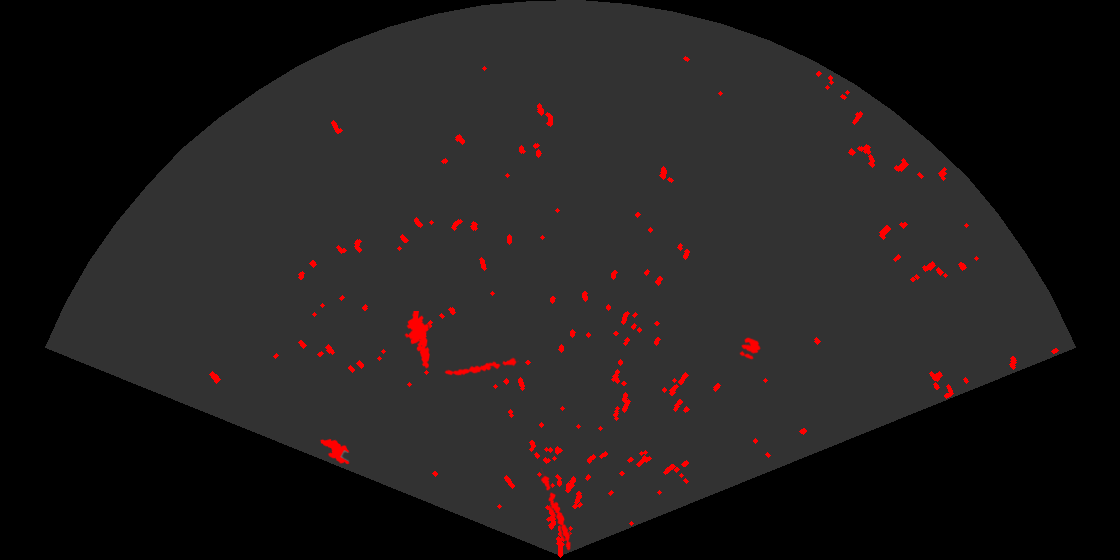AUV: (318, 437, 351, 466)
ball: (738, 336, 762, 361)
chain: (539, 468, 573, 552), (443, 356, 519, 377)
frogman: (403, 311, 431, 370)
